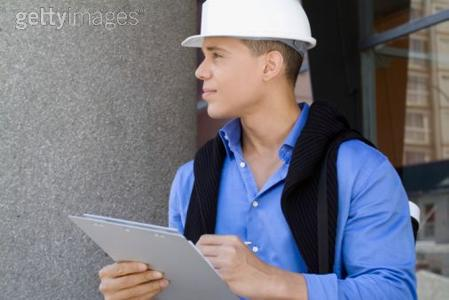person: (100, 4, 421, 300)
